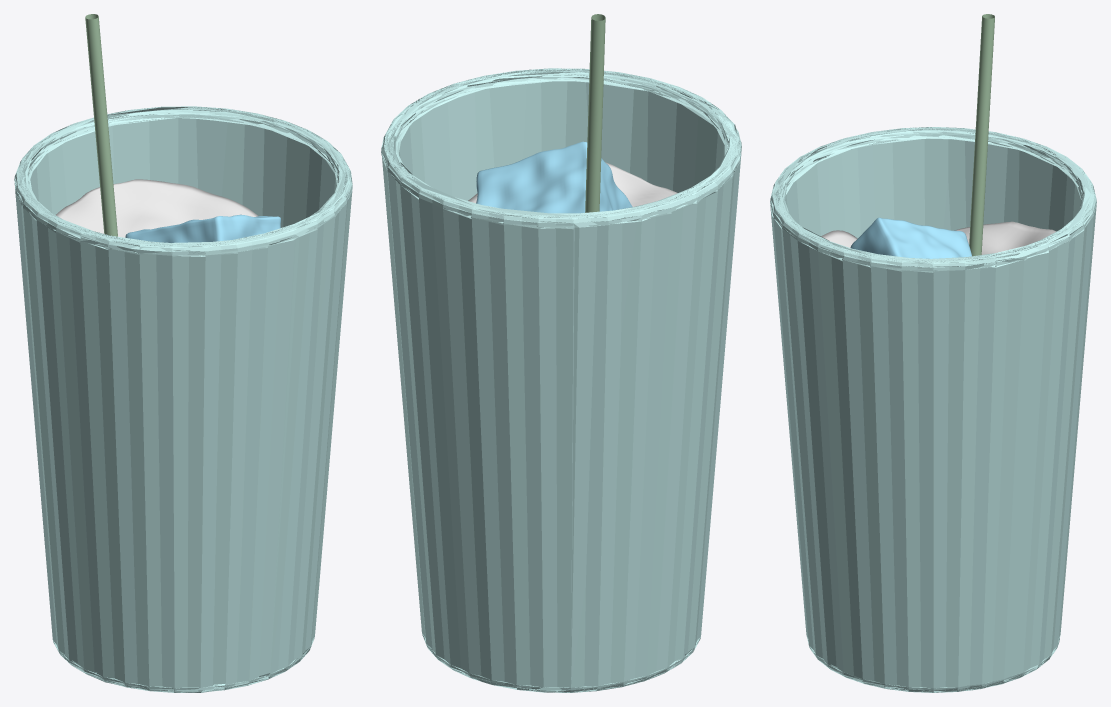
Rendered from CupOfIce 1.fbx.
3 views of the same model, side by side, from view 1: azimuth 30°, elevation 25°; view 2: azimuth 150°, elevation 25°; view 3: azimuth 270°, elevation 25° (orthographic). The views are drawn at different scales.
Visible parts, largest first — view 1: glasyy, liquid, Vert, ice Cube; view 2: glasyy, ice Cube, Vert, liquid; view 3: glasyy, ice Cube, Vert, liquid.
Boxes of the visible parts, x1,y1,x2,y2 form: glasyy: [14, 106, 352, 692]; liquid: [56, 179, 258, 237]; Vert: [85, 14, 117, 236]; ice Cube: [125, 214, 280, 242]; glasyy: [381, 68, 741, 692]; ice Cube: [476, 141, 632, 213]; Vert: [585, 14, 605, 212]; liquid: [468, 162, 677, 206]; glasyy: [770, 127, 1096, 692]; ice Cube: [850, 217, 971, 258]; Vert: [969, 14, 994, 256]; liquid: [821, 221, 1055, 254].
Size of the model in its own units: 49.98 by 101 by 49.98.
